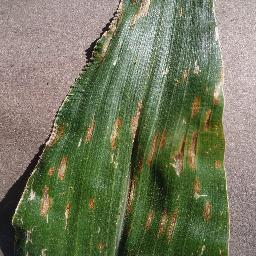Gray_Leaf_Spot: (173, 120, 200, 175), (200, 106, 225, 141), (203, 136, 226, 174), (158, 202, 179, 242), (46, 112, 67, 150), (131, 140, 146, 181), (142, 200, 156, 240), (37, 182, 50, 223), (131, 100, 145, 138), (217, 80, 232, 115), (155, 123, 173, 152), (99, 18, 113, 52), (108, 114, 121, 148), (188, 91, 206, 115), (125, 176, 138, 208), (134, 0, 150, 24), (110, 0, 124, 27), (144, 141, 157, 170), (56, 153, 69, 182), (13, 247, 54, 256), (89, 38, 100, 70), (60, 198, 71, 230), (6, 212, 21, 234), (225, 188, 232, 235), (204, 197, 216, 224), (80, 119, 94, 142), (190, 55, 205, 75), (174, 0, 189, 20), (216, 59, 229, 81), (193, 173, 204, 197), (107, 151, 122, 168), (24, 226, 35, 249), (178, 65, 192, 83), (25, 181, 38, 200), (32, 146, 40, 176), (211, 26, 225, 43), (210, 4, 221, 19), (45, 165, 57, 178), (97, 236, 105, 255), (87, 196, 96, 210), (160, 68, 171, 79), (195, 241, 203, 256), (216, 243, 225, 256), (127, 226, 132, 239)
